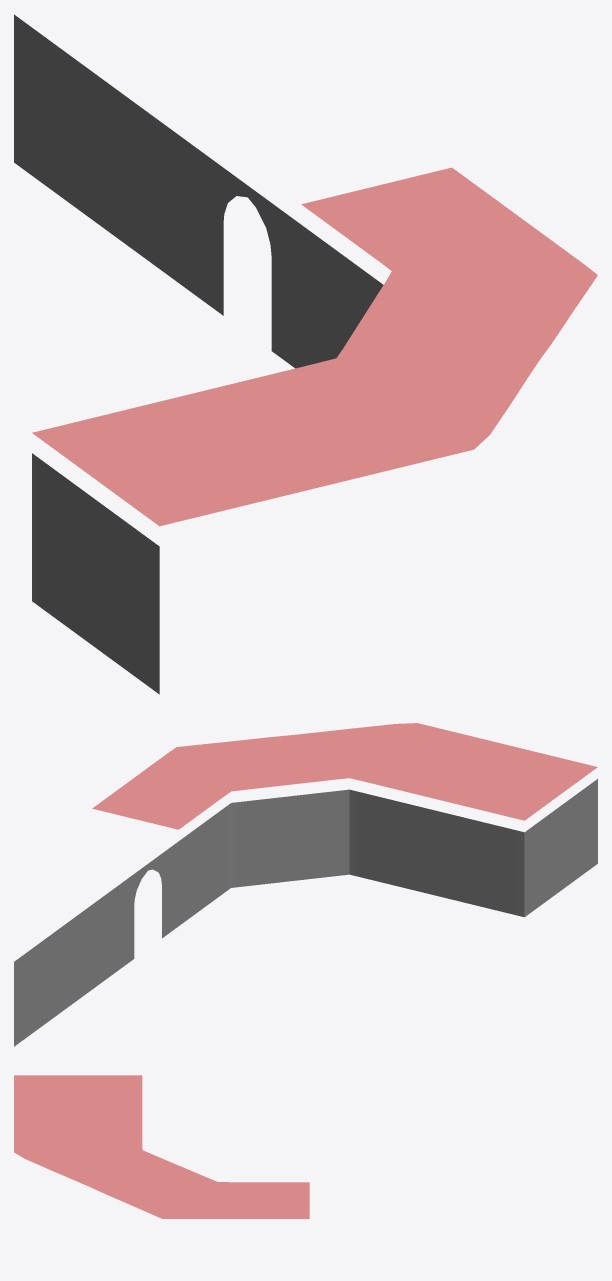
Rendered from S_Envi_Fyz_Building_90l.gltf.
3 renders of one model, top to bottom at view 1: azimuth 30°, elevation 25°; view 2: azimuth 150°, elevation 25°; view 3: azimuth 270°, elevation 25°, orthographic. The views are drawn at different scales.
Parts seen in each view (by area): view 1: S_Envi_Fyz_Building_90l; view 2: S_Envi_Fyz_Building_90l; view 3: S_Envi_Fyz_Building_90l.
Boxes of the visible parts, <box> form: S_Envi_Fyz_Building_90l: <box>14,14,597,694</box>; S_Envi_Fyz_Building_90l: <box>14,723,597,1046</box>; S_Envi_Fyz_Building_90l: <box>14,1075,309,1218</box>.
Bounding box in the file's own units: 18.22 × 4.99 × 31.27.
